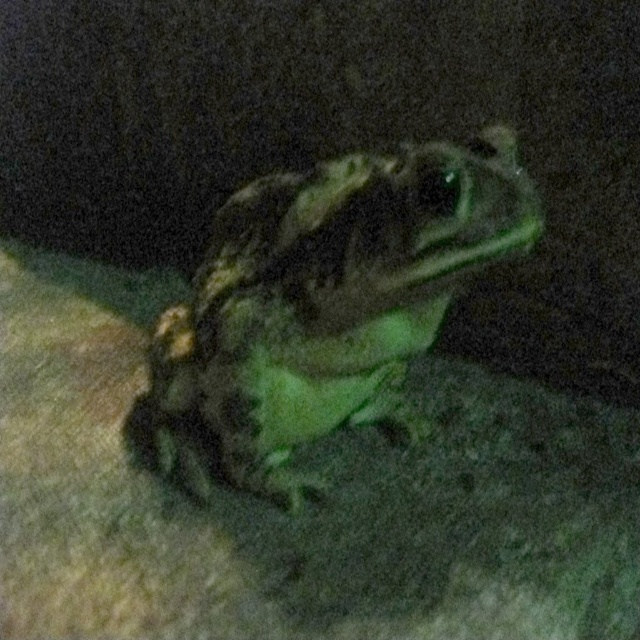Frog: (148, 124, 545, 513)
